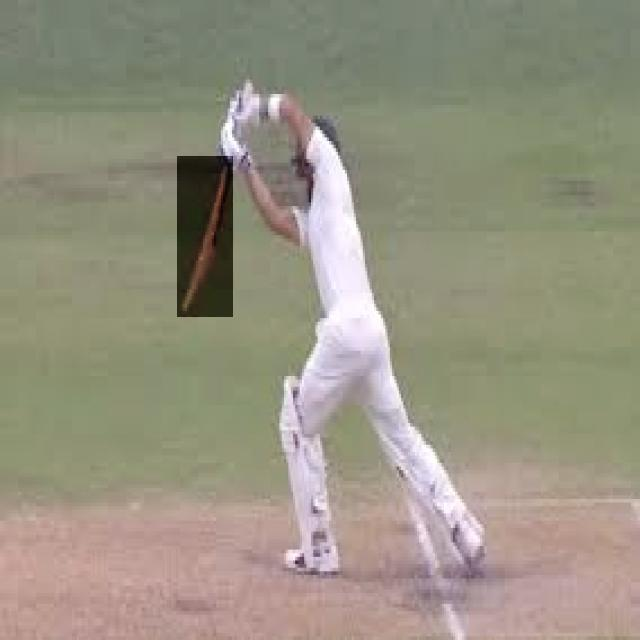bat: (176, 158, 235, 320)
toe: (170, 298, 200, 324)
